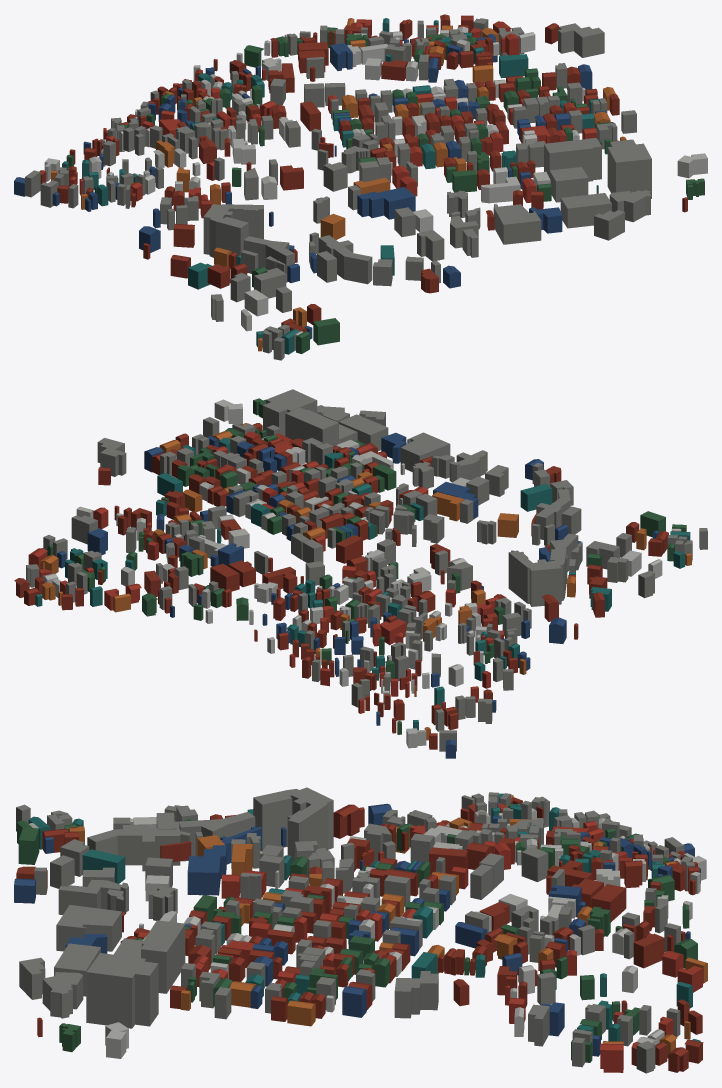
The model's file is near-16-54724-29737.ffd3360b.glb.
3 renders of one model, top to bottom at view 1: azimuth 30°, elevation 25°; view 2: azimuth 150°, elevation 25°; view 3: azimuth 270°, elevation 25°, orthographic. The views are drawn at different scales.
Bounding box in the file's own units: 613 × 158 × 598.
